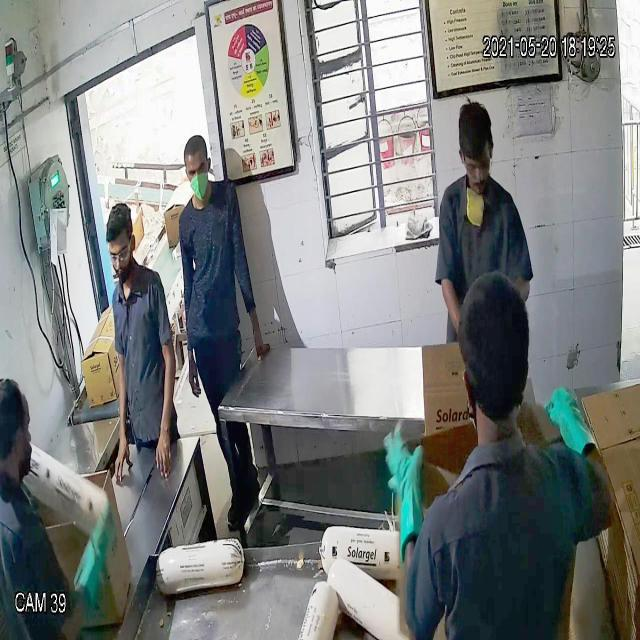glasses: (104, 236, 134, 268)
no-glass: (183, 157, 211, 184)
